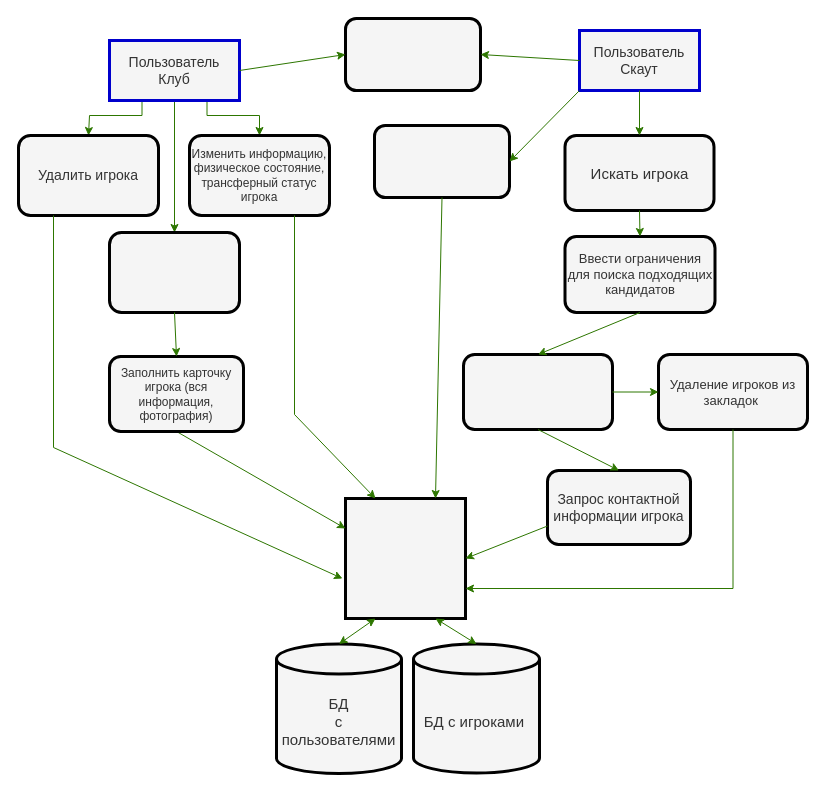
Some shapes in this 826 by 792 pixel diagram are drawn without their labels. The centre of each missing label's shape, as x and y in pixels:
"Добавить игрока" goes at (x=174, y=272).
"Добавление подходящий игроков в закладки" goes at (x=538, y=391).
"Изменение информации о себе (и клуб, и скаут)" goes at (x=413, y=54).
"Оплата подписки, для пользованием приложения" goes at (x=441, y=161).
"Сервер" goes at (x=405, y=558).
